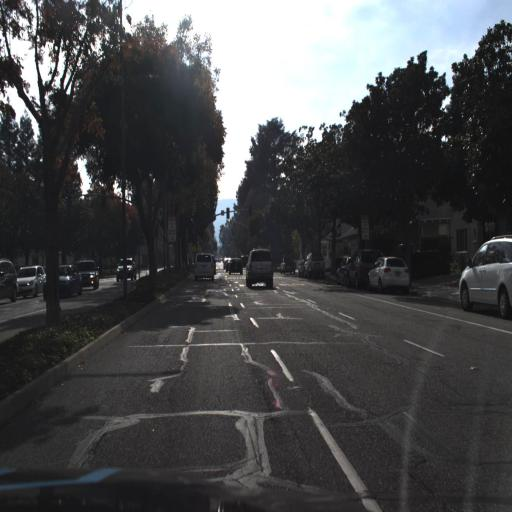car: (458, 233, 512, 320), (343, 244, 378, 293), (367, 255, 412, 293), (43, 263, 82, 300), (243, 247, 275, 290), (15, 266, 46, 303), (75, 258, 102, 290), (303, 251, 328, 282), (0, 259, 20, 297), (301, 248, 324, 280), (193, 252, 214, 284), (333, 254, 347, 288), (117, 256, 135, 281), (227, 256, 245, 276), (239, 251, 251, 265)
